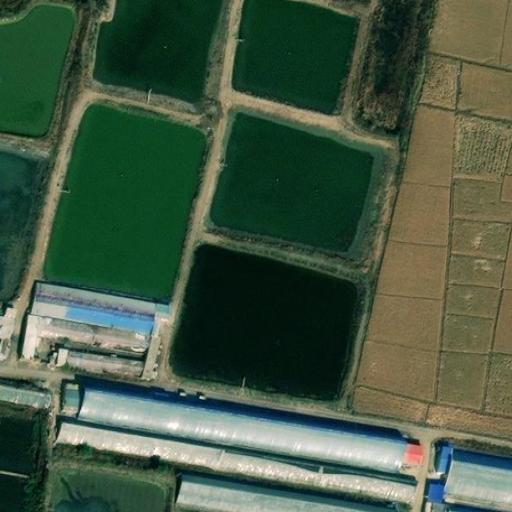building: (24, 315, 160, 381), (31, 283, 171, 335), (422, 481, 450, 512), (434, 444, 451, 473), (401, 444, 420, 465)
